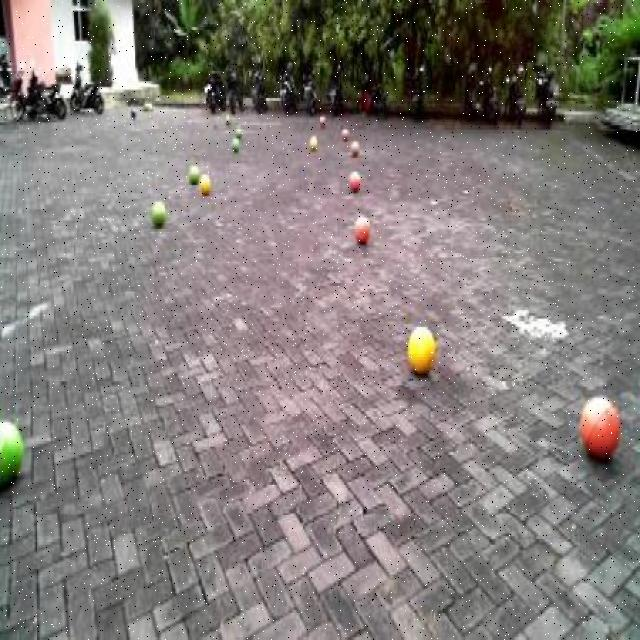buoy: (571, 371, 627, 472), (400, 306, 441, 388), (0, 396, 27, 510), (348, 204, 374, 257), (146, 186, 171, 236), (340, 161, 370, 202), (183, 152, 201, 188), (196, 166, 214, 202)
